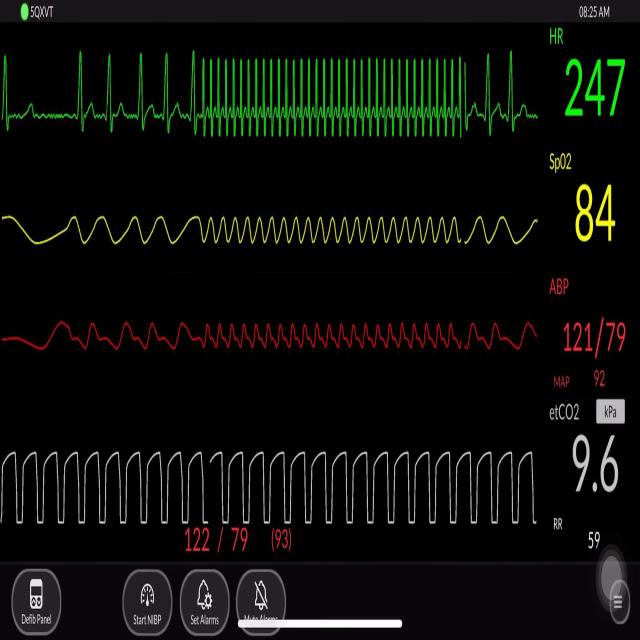danger: (199, 45, 473, 144)
